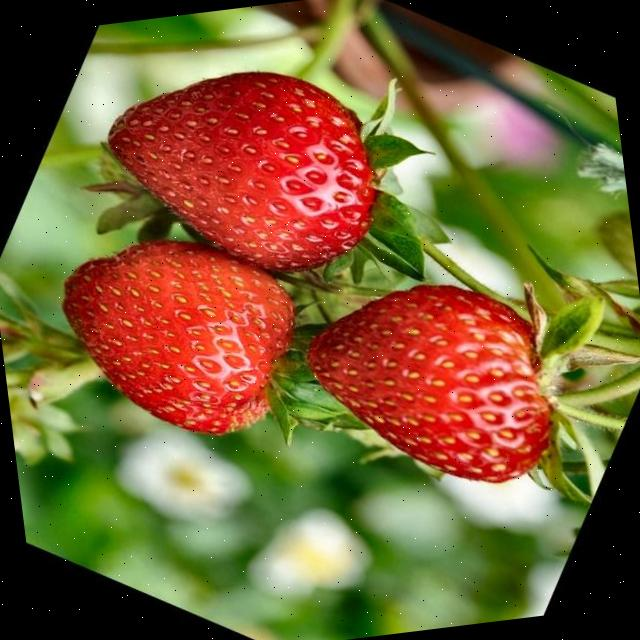strawberry: (108, 72, 375, 271), (307, 284, 550, 481), (64, 240, 294, 434)
